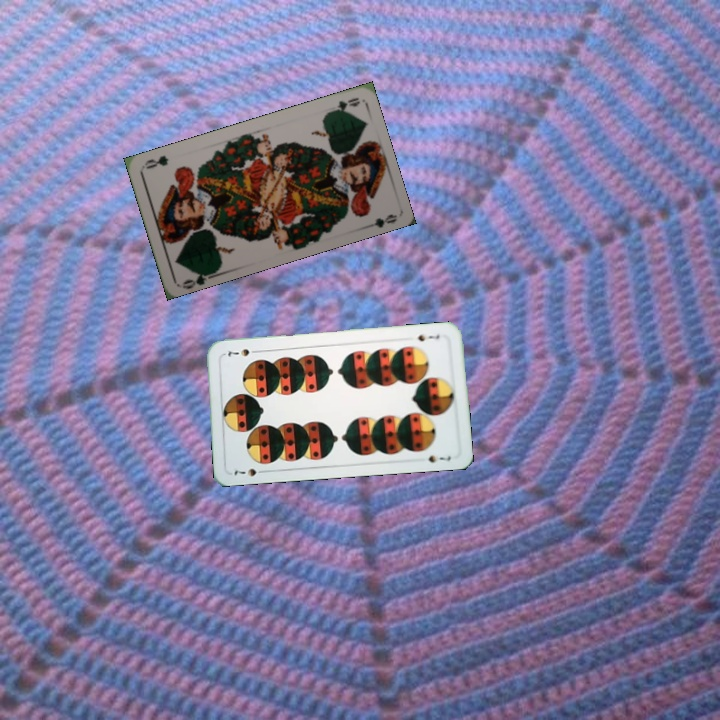GO: (179, 267, 218, 290), (323, 94, 362, 117)
S7: (230, 464, 269, 479), (414, 331, 442, 344)
